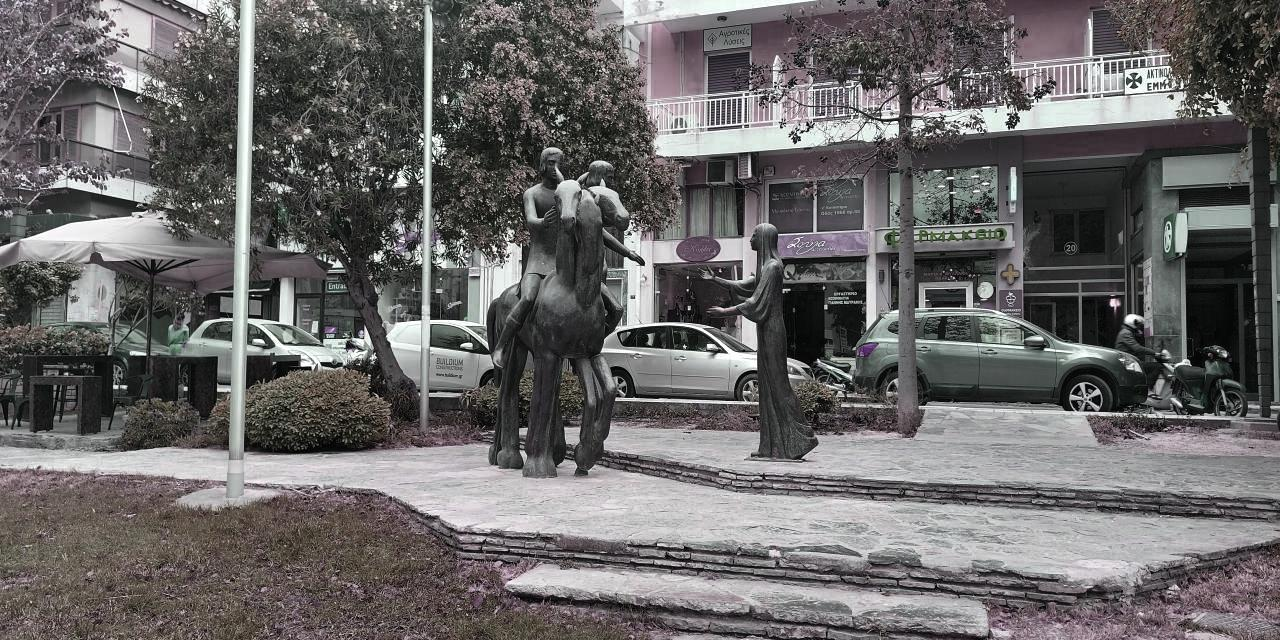Aretousa: (487, 148, 817, 481)
